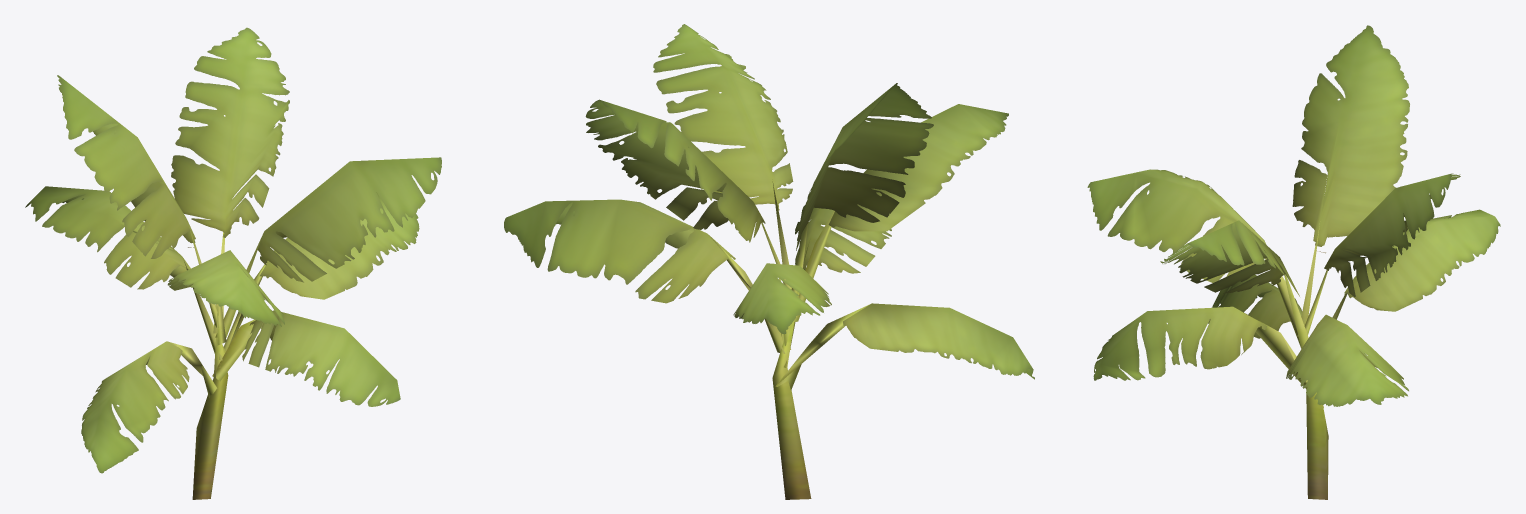
Rendered from plant1_lod0.fbx.
3 views of the same model, side by side, from view 1: azimuth 30°, elevation 25°; view 2: azimuth 150°, elevation 25°; view 3: azimuth 270°, elevation 25° (orthographic). The views are drawn at different scales.
Parts seen in each view (by area): view 1: Tree_1_Tree_1Mat_0.004; view 2: Tree_1_Tree_1Mat_0.004; view 3: Tree_1_Tree_1Mat_0.004.
Part boxes in pixels (x1,y1,x2,y2): Tree_1_Tree_1Mat_0.004: (25, 27, 441, 499); Tree_1_Tree_1Mat_0.004: (504, 24, 1034, 499); Tree_1_Tree_1Mat_0.004: (1087, 25, 1500, 499).
Bounding box in the file's own units: 278 × 274 × 257.
1 material, 1 textured.
